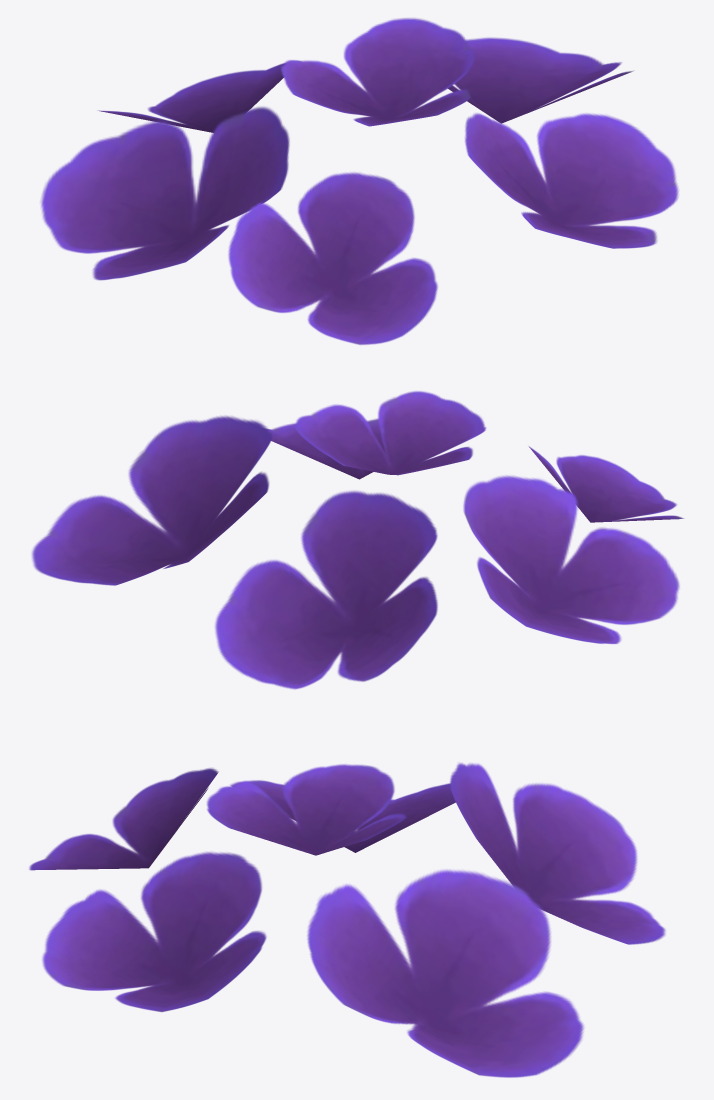
The model's file is plant-2.glb.
3 renders of one model, top to bottom at view 1: azimuth 30°, elevation 25°; view 2: azimuth 150°, elevation 25°; view 3: azimuth 270°, elevation 25°, orthographic. The views are drawn at different scales.
Visible parts, largest first — view 1: Plant_7; view 2: Plant_7; view 3: Plant_7.
Part boxes in pixels (<box>): Plant_7: <box>40,18,678,344</box>; Plant_7: <box>31,391,684,689</box>; Plant_7: <box>29,762,665,1077</box>.
Size of the model in its own units: 1.05 by 0.2495 by 0.9621.
Materials: 1 (1 with a texture image).
